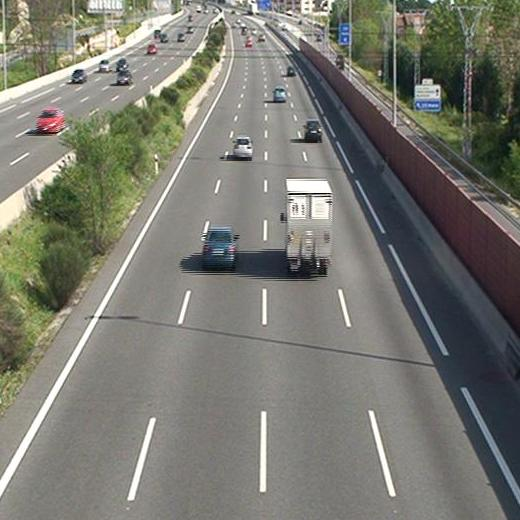car: (203, 227, 237, 266), (233, 135, 252, 159), (305, 119, 322, 140), (272, 86, 285, 102), (286, 66, 295, 77)
small-truck: (283, 179, 332, 271)
